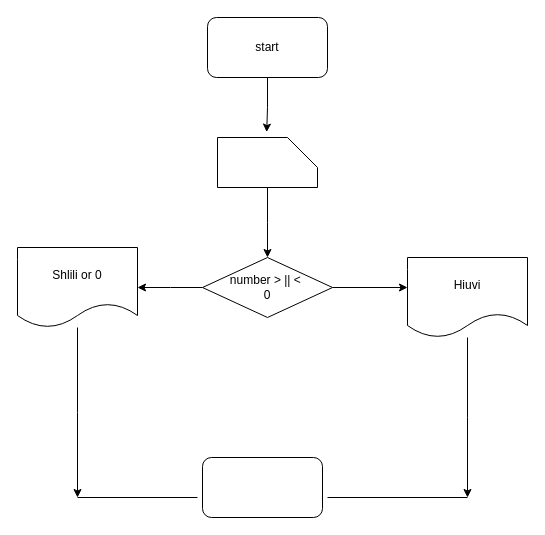
This 545x535 diagram has some shape labels left out. Each missing label, with the box of its shape:
End: (202, 456, 322, 518)
number: (216, 136, 318, 188)
